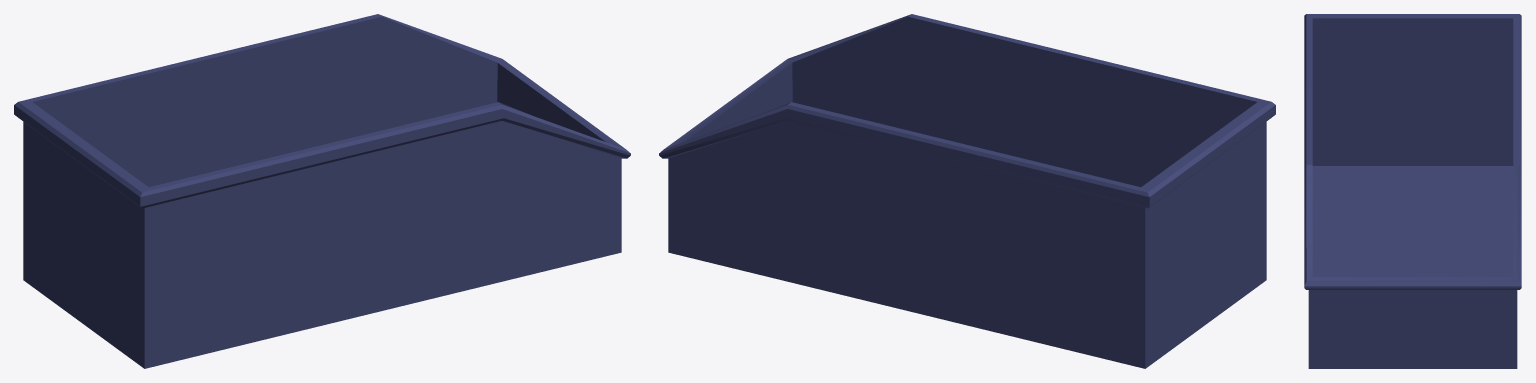
File: StackableOrganizer.fbx
3 views of the same model, side by side, from view 1: azimuth 30°, elevation 25°; view 2: azimuth 150°, elevation 25°; view 3: azimuth 270°, elevation 25° (orthographic). The views are drawn at different scales.
Parts seen in each view (by area): view 1: StackableOrganizer; view 2: StackableOrganizer; view 3: StackableOrganizer.
Boxes of the visible parts, bbox=[...] form: StackableOrganizer: bbox=[14, 14, 630, 368]; StackableOrganizer: bbox=[659, 14, 1275, 368]; StackableOrganizer: bbox=[1304, 14, 1521, 368].
Size of the model in its own units: 36.79 by 12.78 by 16.4.
